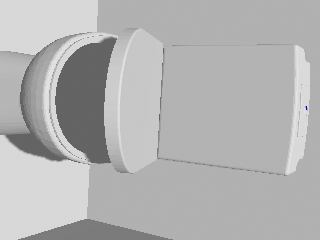lid_1: (104, 28, 162, 172)
